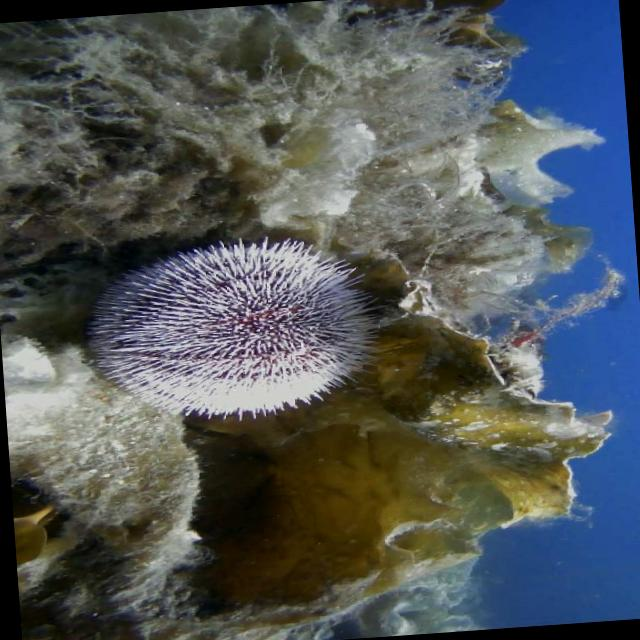Deniz Kestanesi: (81, 226, 402, 431)
